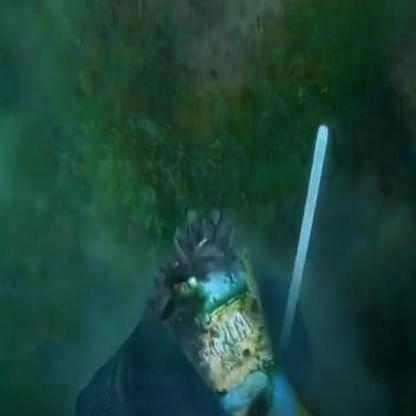plastic: (154, 184, 296, 395)
